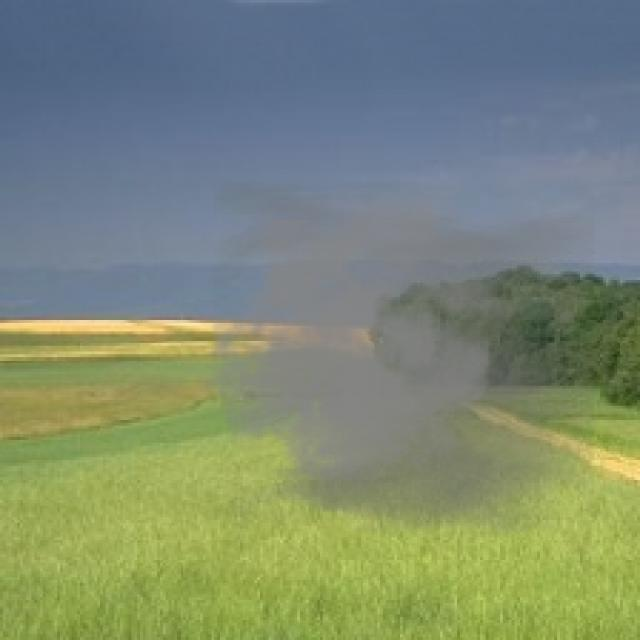Smoke: (200, 180, 594, 537)
